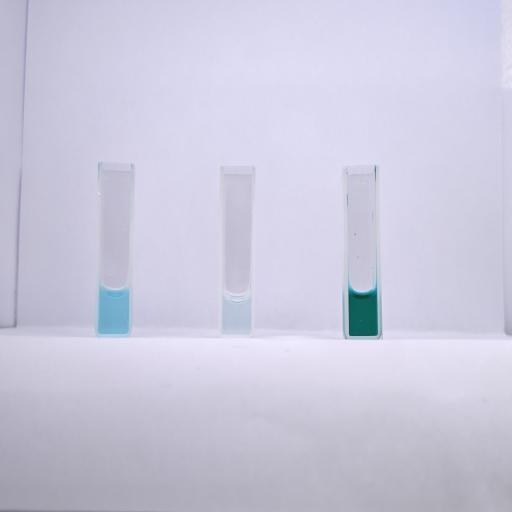cuvette: (340, 162, 385, 340), (93, 160, 137, 338), (218, 162, 258, 339)
liquid: (98, 285, 129, 334), (349, 287, 377, 335), (223, 292, 251, 333)
